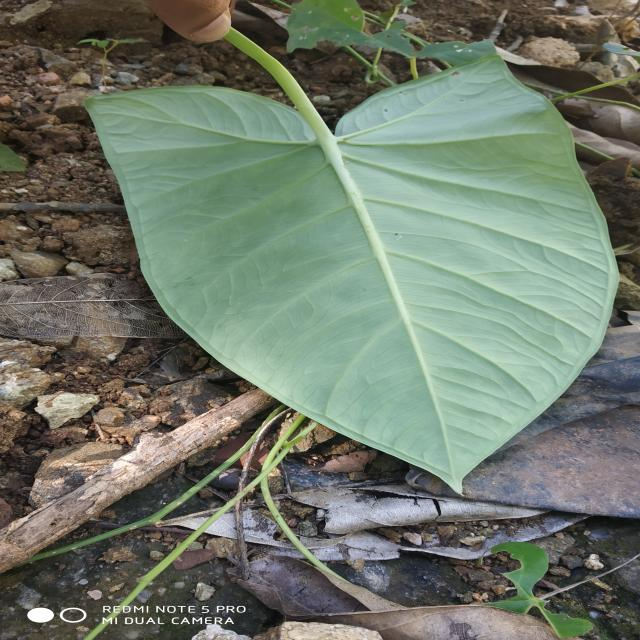taro: (104, 58, 616, 491)
